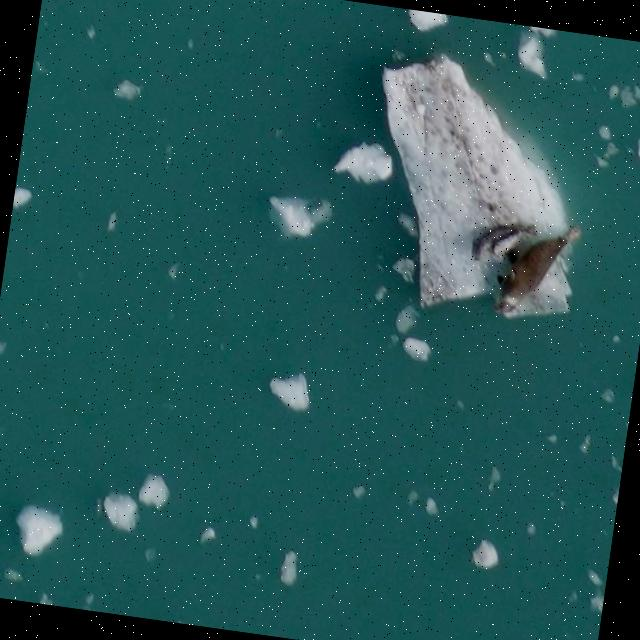seal: (495, 226, 582, 313), (475, 224, 533, 261)
